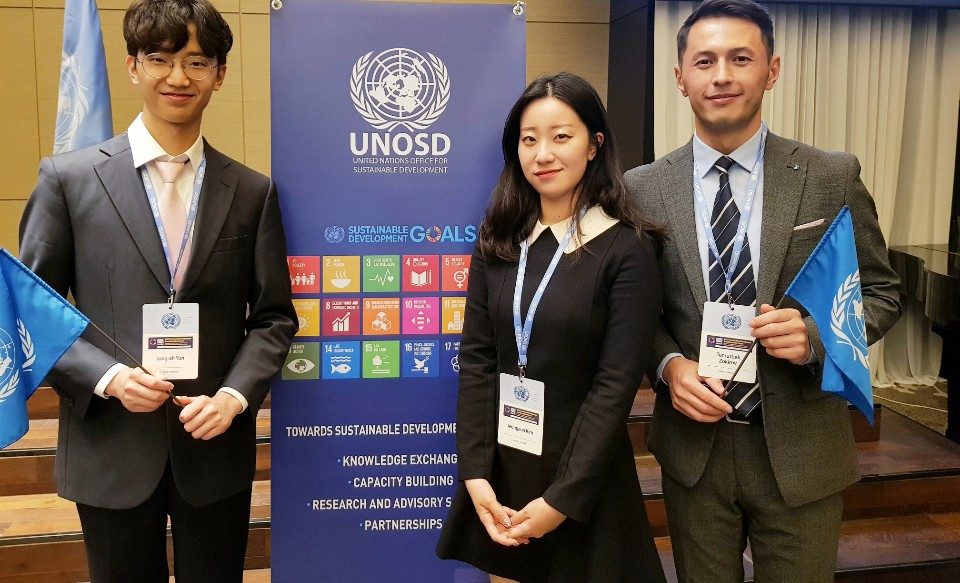without_mask: (137, 29, 216, 123), (688, 30, 766, 122), (515, 110, 587, 190)
